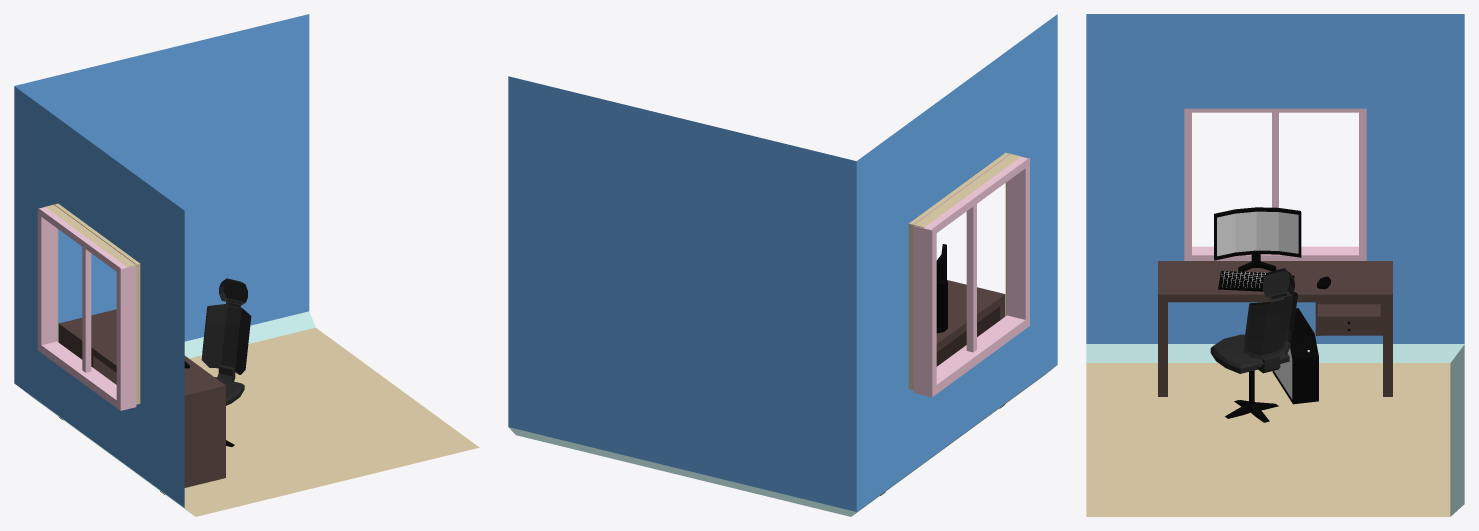
File: home.fbx
3 renders of one model, left to right at view 1: azimuth 30°, elevation 25°; view 2: azimuth 150°, elevation 25°; view 3: azimuth 270°, elevation 25°, orthographic. The views are drawn at different scales.
Parts seen in each view (by area): view 1: Cube.015, Cube.014, Cube.017, Cube.001, Cube.002, Cube.011, Cube, Cube.016; view 2: Cube.015, Cube.014, Cube.001, Cube, Cube.002, Cube.016, Cube.006; view 3: Cube.014, Cube.017, Cube.002, Cube.016, Cube.001, Cube.011, Cube.010, Cube.009, Cube.003, Cube.006, Cube.005, Cube.013 (+2 smaller).
Boxes of the visible parts, x1=… form: Cube.015: x1=14, y1=14, x2=309, y2=341; Cube.014: x1=14, y1=86, x2=184, y2=507; Cube.017: x1=184, y1=327, x2=479, y2=516; Cube.001: x1=37, y1=204, x2=136, y2=410; Cube.002: x1=58, y1=309, x2=225, y2=494; Cube.011: x1=201, y1=278, x2=251, y2=405; Cube: x1=45, y1=203, x2=140, y2=404; Cube.016: x1=18, y1=311, x2=315, y2=514; Cube.015: x1=508, y1=76, x2=856, y2=511; Cube.014: x1=856, y1=14, x2=1057, y2=511; Cube.001: x1=913, y1=153, x2=1029, y2=397; Cube: x1=908, y1=152, x2=1021, y2=389; Cube.002: x1=880, y1=280, x2=1005, y2=495; Cube.016: x1=508, y1=366, x2=1055, y2=516; Cube.006: x1=936, y1=244, x2=947, y2=333; Cube.014: x1=1086, y1=14, x2=1464, y2=343; Cube.017: x1=1086, y1=363, x2=1450, y2=516; Cube.002: x1=1158, y1=261, x2=1392, y2=396; Cube.016: x1=1086, y1=344, x2=1464, y2=516; Cube.001: x1=1184, y1=108, x2=1366, y2=260; Cube.011: x1=1210, y1=268, x2=1297, y2=373; Cube.010: x1=1217, y1=211, x2=1298, y2=256; Cube.009: x1=1272, y1=308, x2=1318, y2=404; Cube.003: x1=1317, y1=304, x2=1380, y2=328; Cube.006: x1=1214, y1=207, x2=1301, y2=271; Cube.005: x1=1218, y1=271, x2=1294, y2=291; Cube.013: x1=1225, y1=370, x2=1278, y2=422.
Size of the model in its own units: 925 by 870 by 866.
